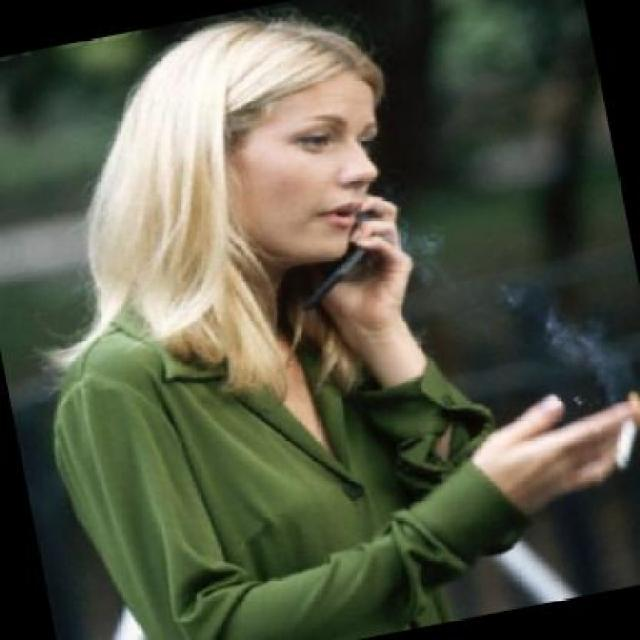smoke: (597, 388, 640, 476)
